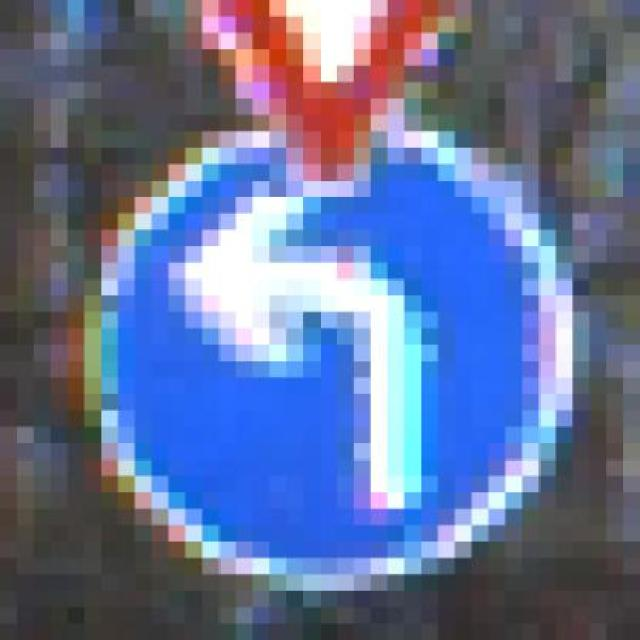Turn left ahead: (50, 114, 573, 592)
